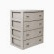plastic: (8, 7, 46, 50)
